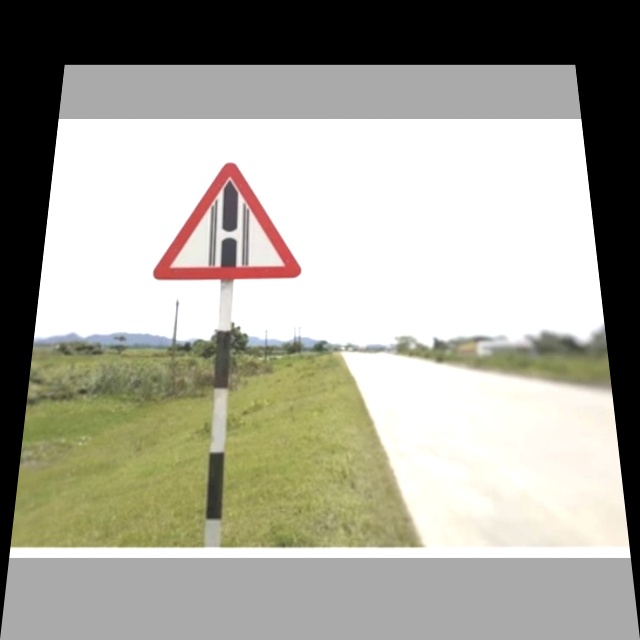Gap_in_Median: (151, 159, 307, 283)
